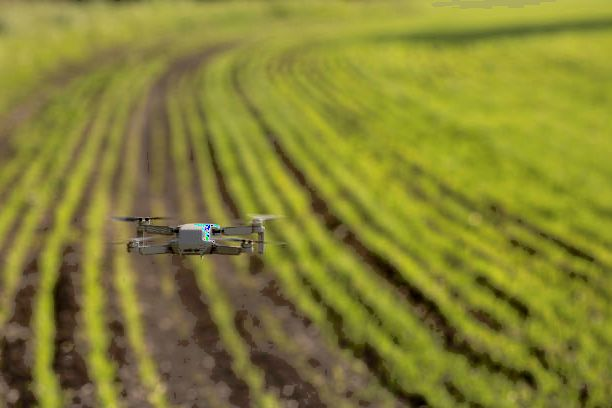Drone: (110, 209, 296, 266)
